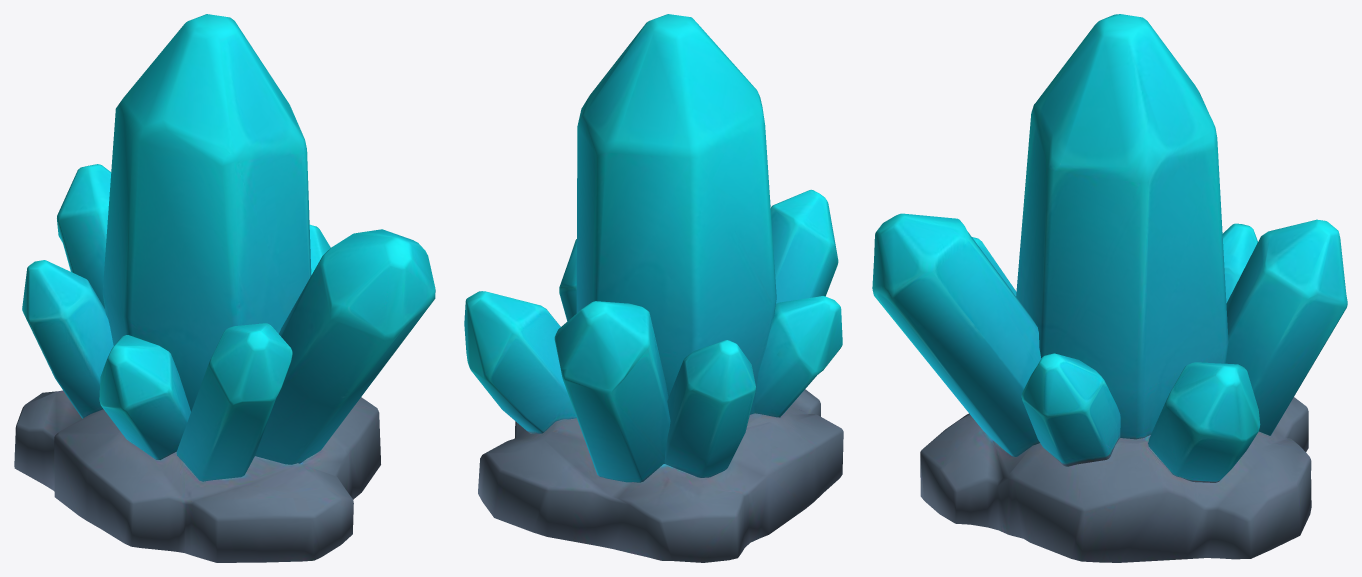
Rendered from mineral.glb.
3 views of the same model, side by side, from view 1: azimuth 30°, elevation 25°; view 2: azimuth 150°, elevation 25°; view 3: azimuth 270°, elevation 25° (orthographic). The views are drawn at different scales.
Parts seen in each view (by area): view 1: tripo_node_ddc6c2d0-3e76-4f96-b8d9-9a5d0479c1d1; view 2: tripo_node_ddc6c2d0-3e76-4f96-b8d9-9a5d0479c1d1; view 3: tripo_node_ddc6c2d0-3e76-4f96-b8d9-9a5d0479c1d1.
Part boxes in pixels (<box>): tripo_node_ddc6c2d0-3e76-4f96-b8d9-9a5d0479c1d1: <box>14,14,435,562</box>; tripo_node_ddc6c2d0-3e76-4f96-b8d9-9a5d0479c1d1: <box>464,14,843,562</box>; tripo_node_ddc6c2d0-3e76-4f96-b8d9-9a5d0479c1d1: <box>872,14,1347,562</box>.
Bounding box in the file's own units: 1.63 × 2.4 × 2.17.
Materials: 1 (1 with a texture image).
